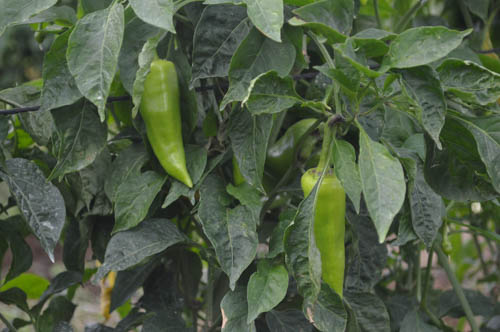ChiliPepper: (138, 59, 197, 189), (300, 170, 350, 298)
